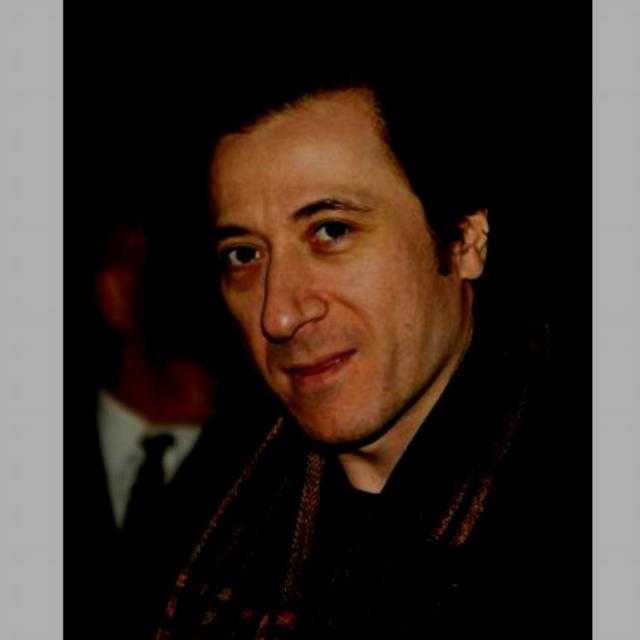live: (189, 93, 494, 453)
